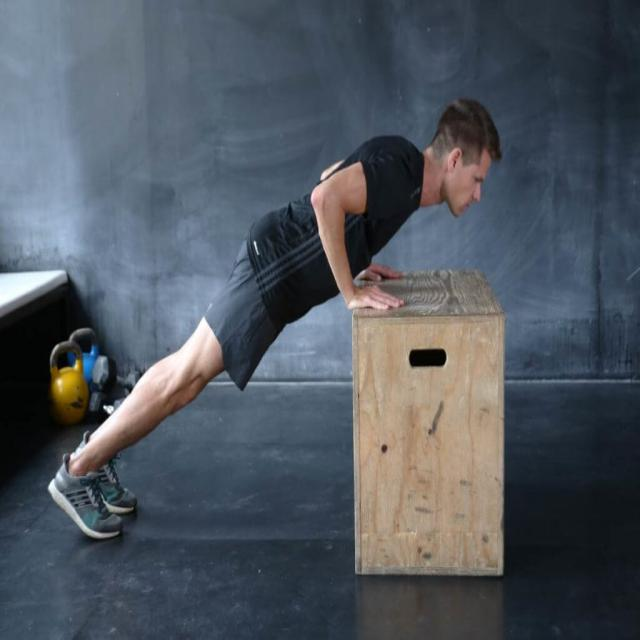Box: (344, 248, 514, 590)
